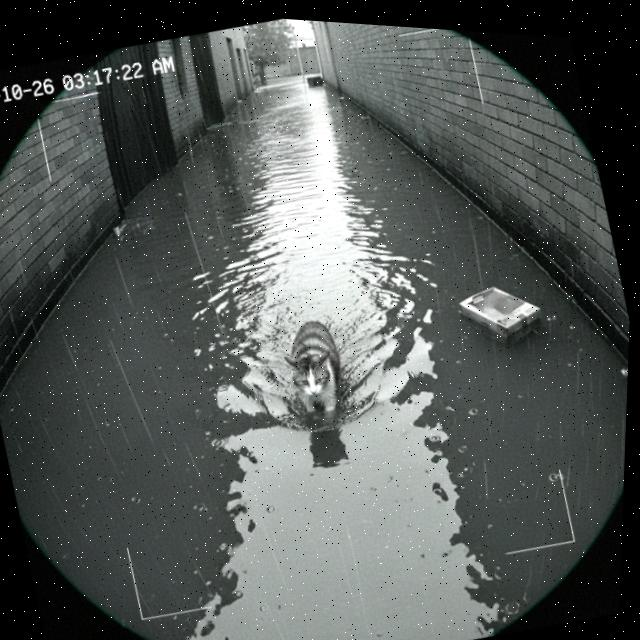cat: (260, 301, 375, 438)
